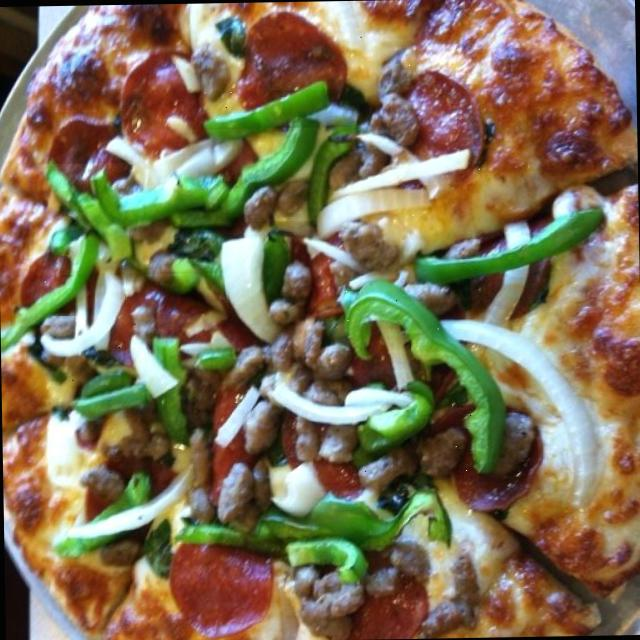Bell Pepper: (340, 278, 518, 476), (163, 478, 454, 566), (160, 126, 356, 240), (27, 160, 216, 273), (404, 196, 611, 286), (52, 312, 206, 421), (56, 449, 153, 567), (192, 87, 371, 149), (250, 219, 318, 324)
pepperoni: (222, 3, 370, 122), (145, 520, 268, 640), (106, 52, 215, 170), (448, 398, 548, 518), (389, 61, 486, 184), (44, 109, 133, 213), (322, 562, 432, 640), (125, 270, 228, 338), (308, 411, 385, 494), (10, 255, 78, 324)
pizza: (0, 0, 640, 640)
